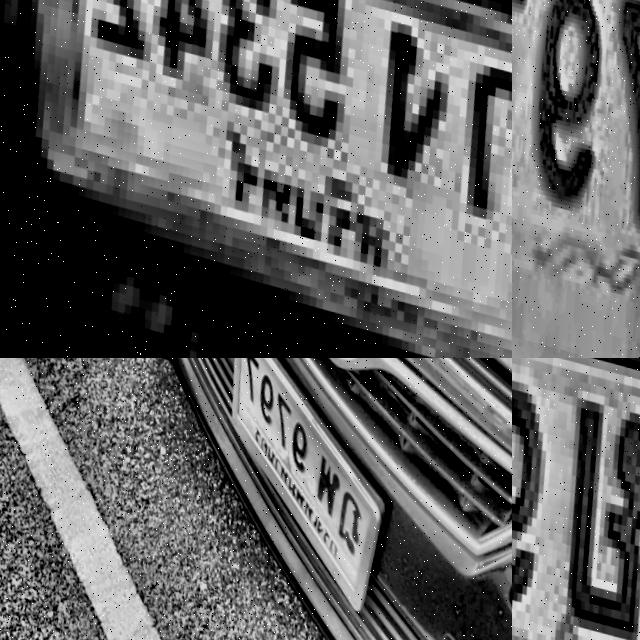license-plate: (0, 0, 512, 358), (182, 358, 415, 619), (512, 0, 640, 358), (512, 358, 640, 640)
